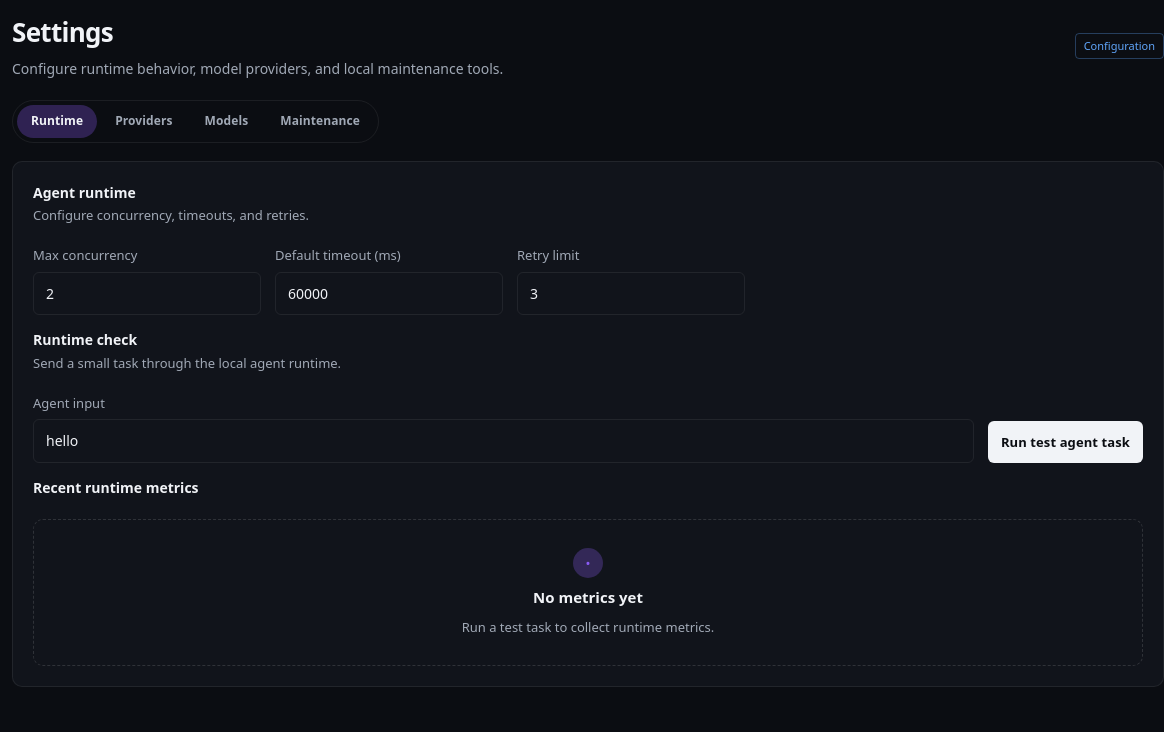
Test: SettingsView runtime values › rejects values below the field minimum
Replace the text in the number field labelled "Max concurrency" with "0" at (147, 293), box top-left (33, 272), bottom-right (261, 315)
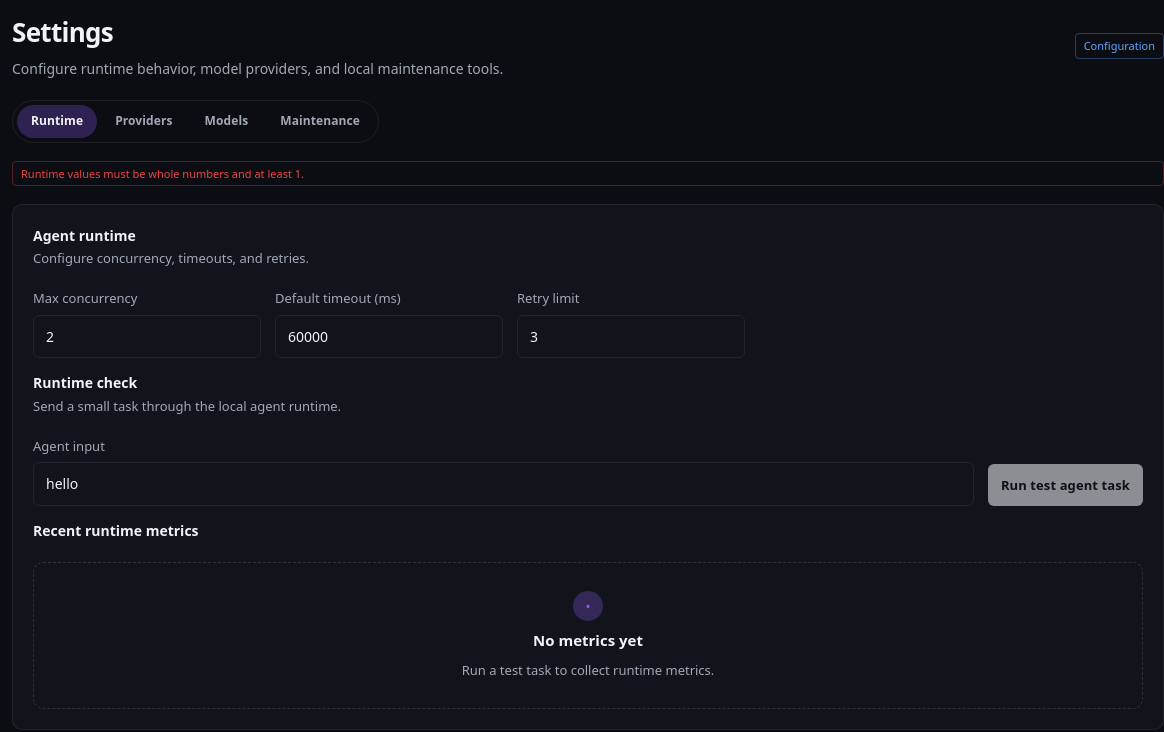
Check: the message "Runtime values must be whole numbers and at least 1." is shown, box top-left (12, 161), bottom-right (1163, 186)
